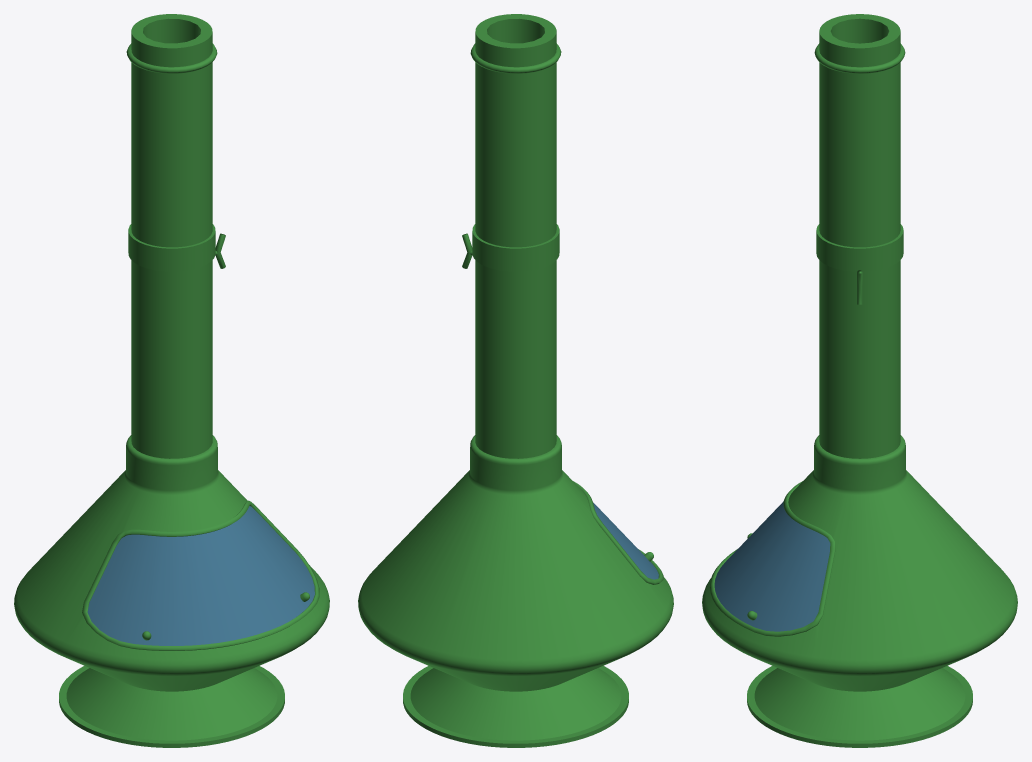
Rendered from SM_Fireplace_01.fbx.
3 views of the same model, side by side, from view 1: azimuth 30°, elevation 25°; view 2: azimuth 150°, elevation 25°; view 3: azimuth 270°, elevation 25° (orthographic).
Parts seen in each view (by area): view 1: SM_Fireplace_01; view 2: SM_Fireplace_01; view 3: SM_Fireplace_01.
Boxes of the visible parts, bbox=[...] form: SM_Fireplace_01: bbox=[14, 14, 329, 747]; SM_Fireplace_01: bbox=[358, 14, 673, 747]; SM_Fireplace_01: bbox=[702, 14, 1017, 747].
Size of the model in its own units: 119 by 279 by 119.
